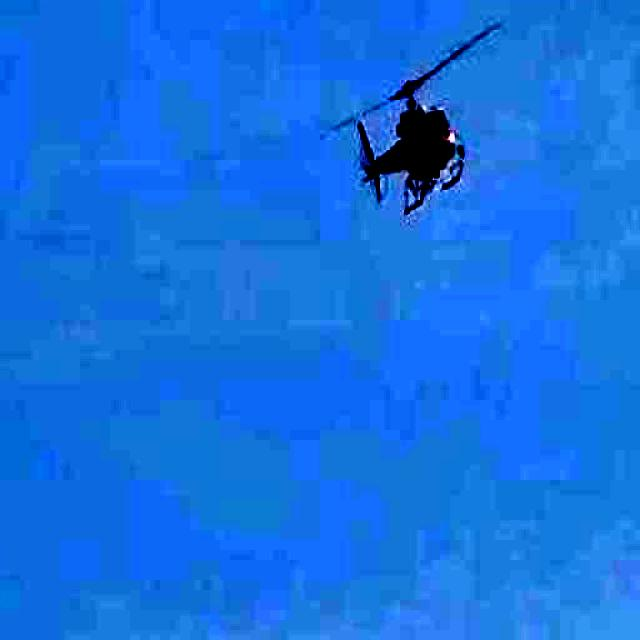drone: (311, 8, 531, 229)
